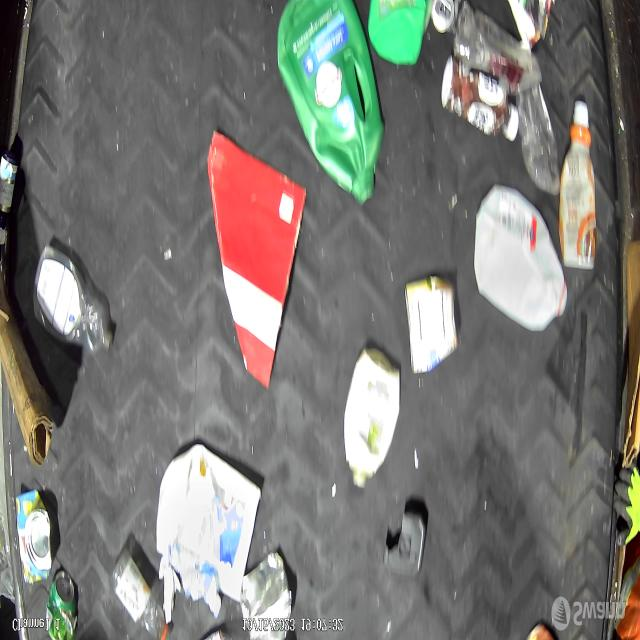can: (404, 274, 461, 377), (240, 551, 293, 640), (14, 488, 55, 586), (45, 567, 79, 640), (429, 0, 455, 35)
milk_jug: (156, 442, 262, 604), (473, 184, 568, 336)
non_white_jug: (275, 0, 386, 210)
plastic_bottle: (31, 242, 115, 357), (515, 46, 563, 198), (111, 550, 171, 640)
